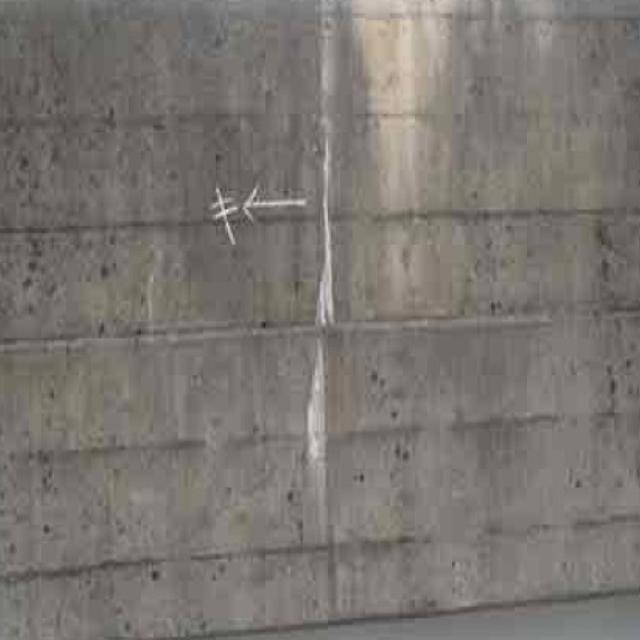freelime: (303, 152, 343, 467)
